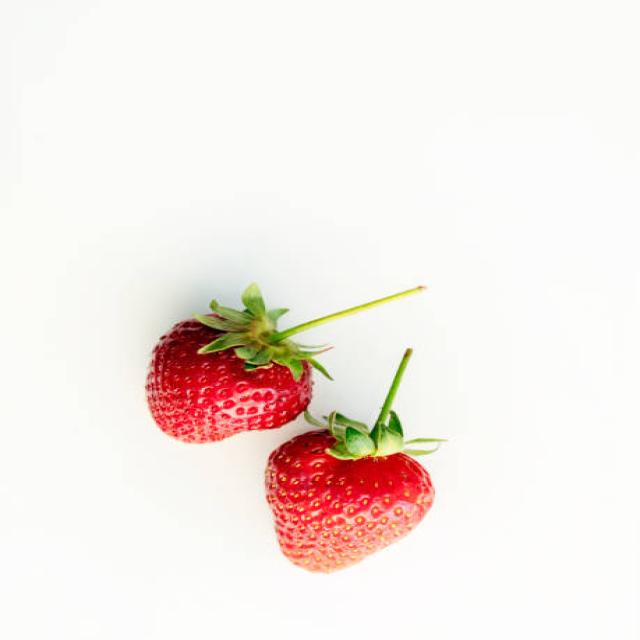Healthy Fruit: (265, 430, 434, 575), (146, 317, 310, 443)
